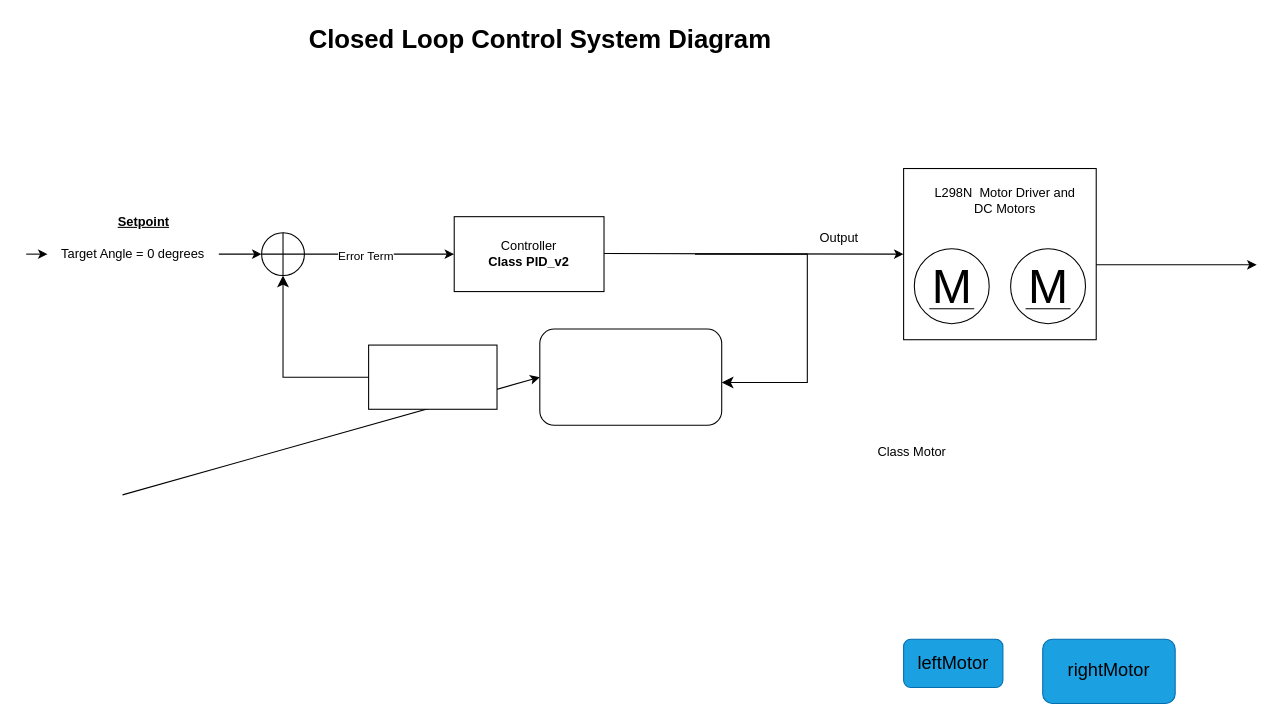
Image size: 1284x722. Some labels were removed from this diagram. The shapes that lost their labels are listed below. From the top down, each one's centre as x and y in pixels, then its label:
point 432,376: Pitch Angle from Accelerometer and Gyro Data Feedback
point 630,376: Class IMU
